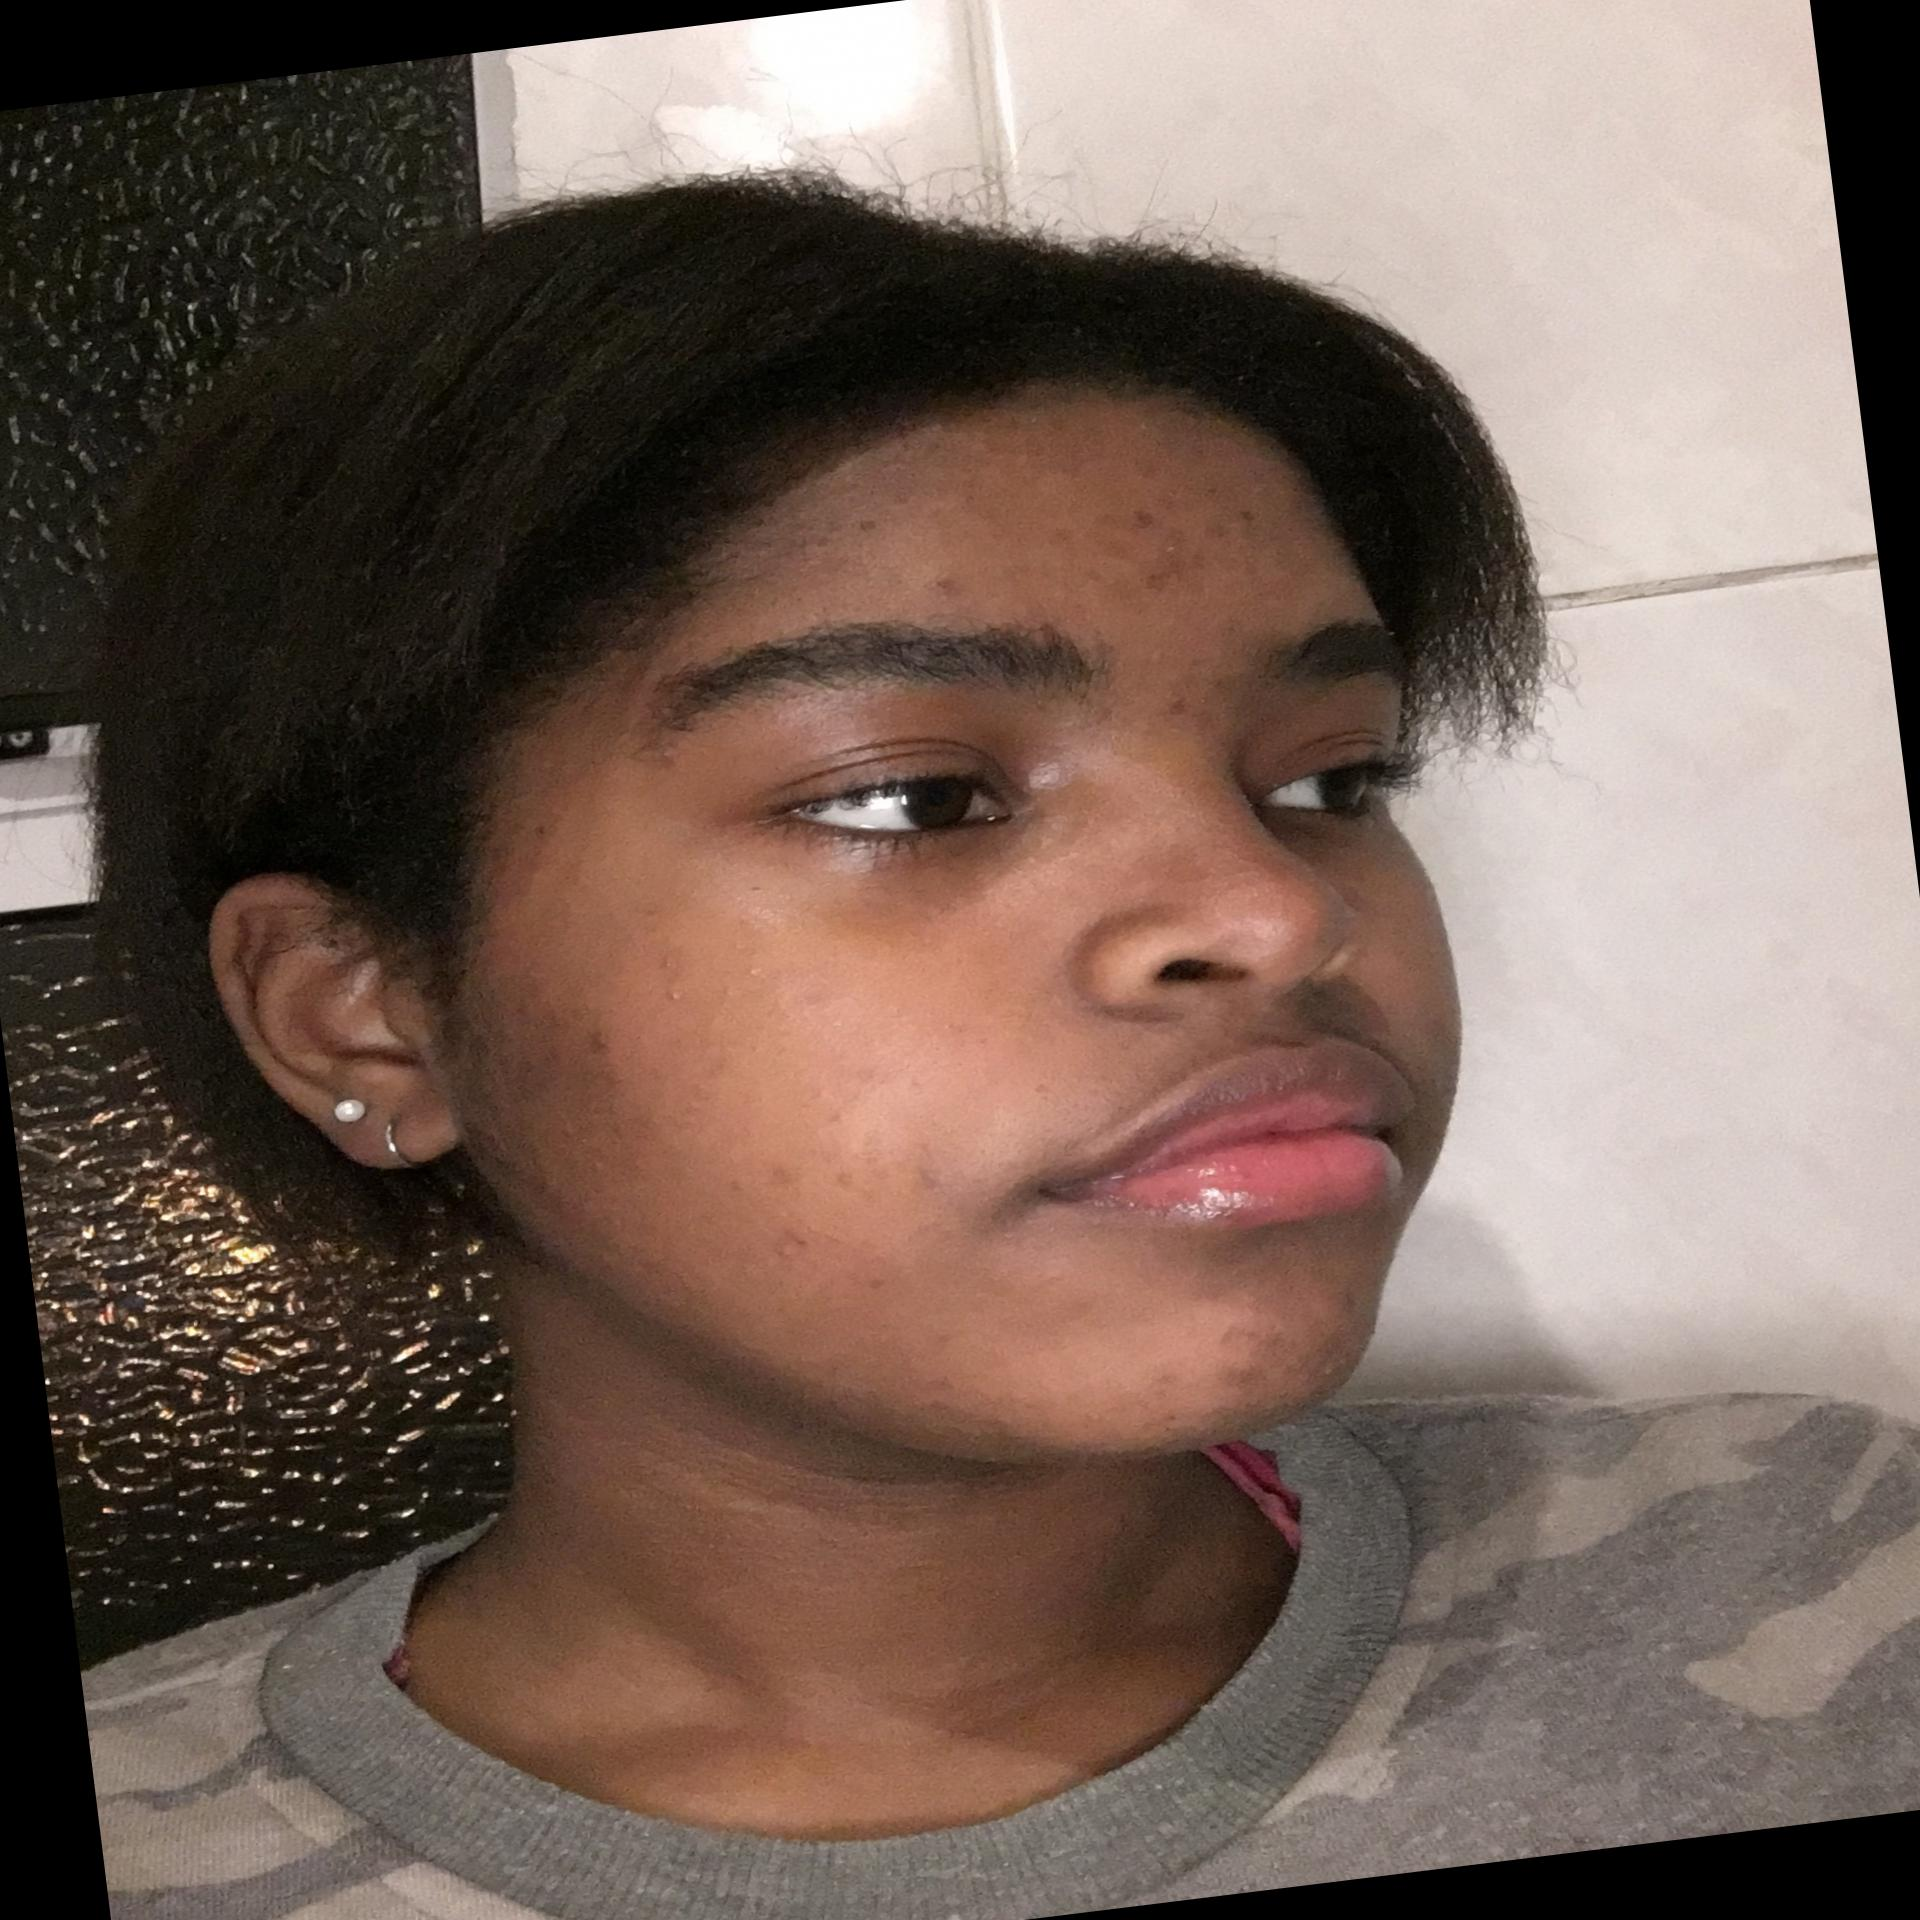Acne: (1097, 1385, 1183, 1451), (1210, 1317, 1285, 1347), (921, 561, 974, 601), (770, 1225, 818, 1268), (578, 1152, 629, 1190), (1116, 501, 1169, 538), (1027, 519, 1085, 550), (921, 1373, 965, 1412), (651, 737, 693, 774), (1218, 1359, 1273, 1387), (846, 513, 893, 545), (1164, 695, 1211, 726), (905, 1155, 946, 1190), (1132, 564, 1178, 594), (819, 1097, 856, 1132), (1192, 473, 1236, 501), (828, 1162, 863, 1196), (1152, 542, 1197, 566), (584, 1023, 621, 1051), (738, 960, 777, 986), (1234, 503, 1269, 531), (1313, 1356, 1342, 1389), (772, 1162, 802, 1189), (644, 953, 682, 972), (717, 1178, 747, 1203), (744, 876, 768, 902), (862, 1275, 886, 1299), (663, 988, 682, 1009)
